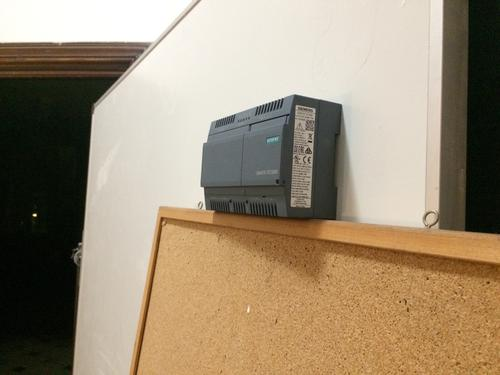iot2000: (200, 94, 343, 223)
